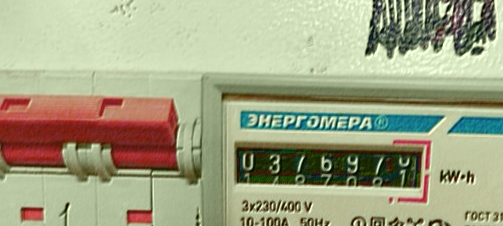0: (238, 148, 253, 170)
1: (395, 167, 406, 187)
3: (266, 152, 280, 173)
6: (317, 148, 333, 172)
7: (291, 149, 307, 173), (369, 152, 384, 175)
9: (343, 151, 357, 173)
screen: (224, 128, 434, 205)
